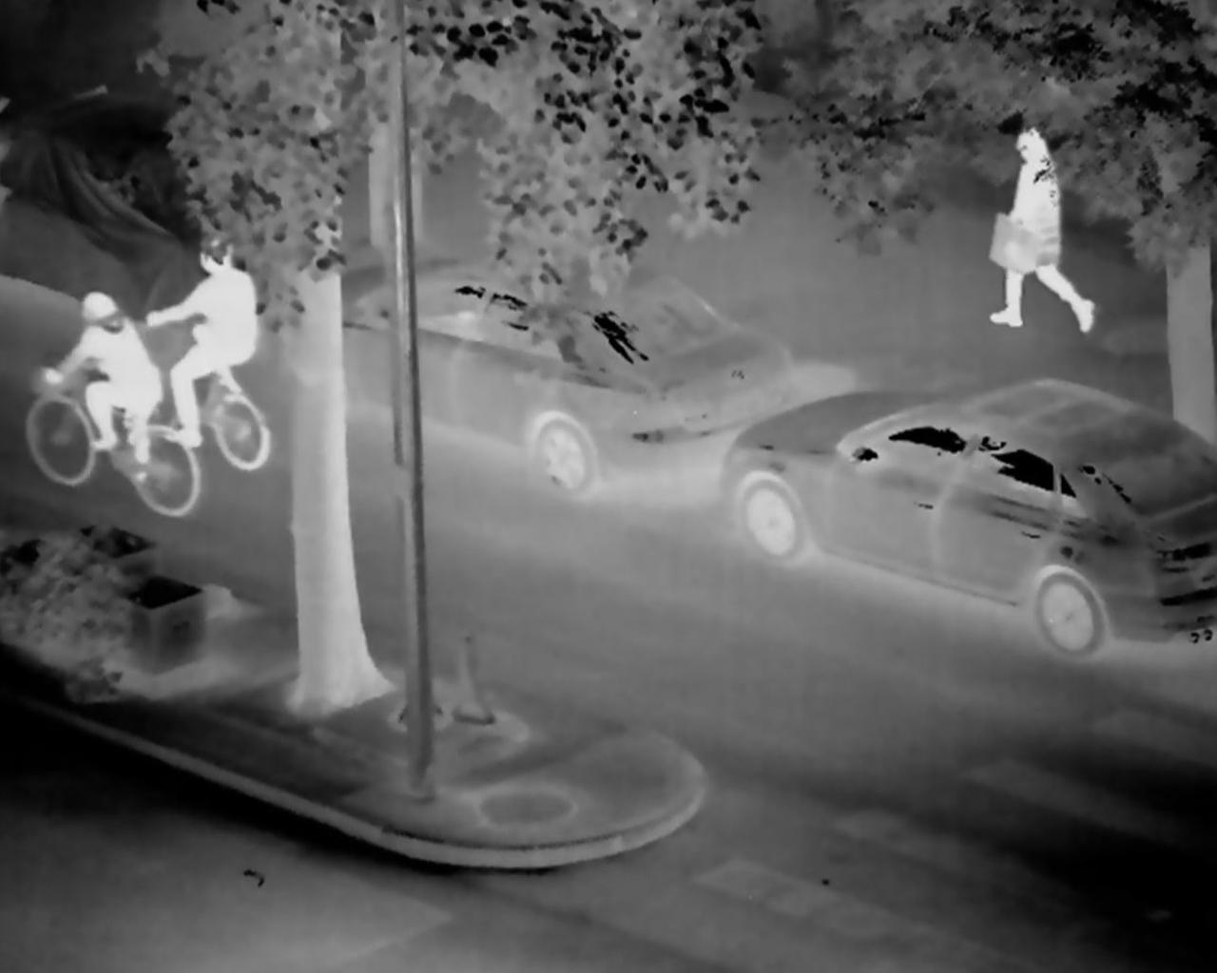person: (972, 115, 1096, 344), (145, 236, 264, 457), (39, 280, 164, 473)
